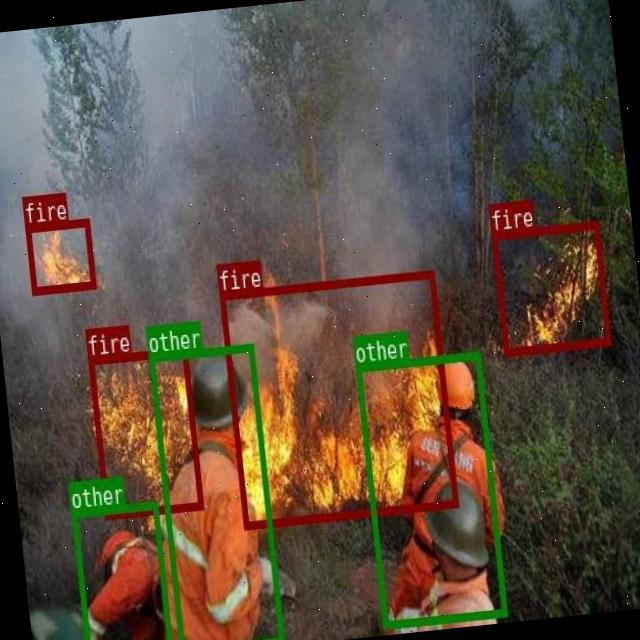fire: (218, 269, 458, 528), (86, 345, 203, 519), (490, 220, 609, 356), (24, 218, 96, 293)
